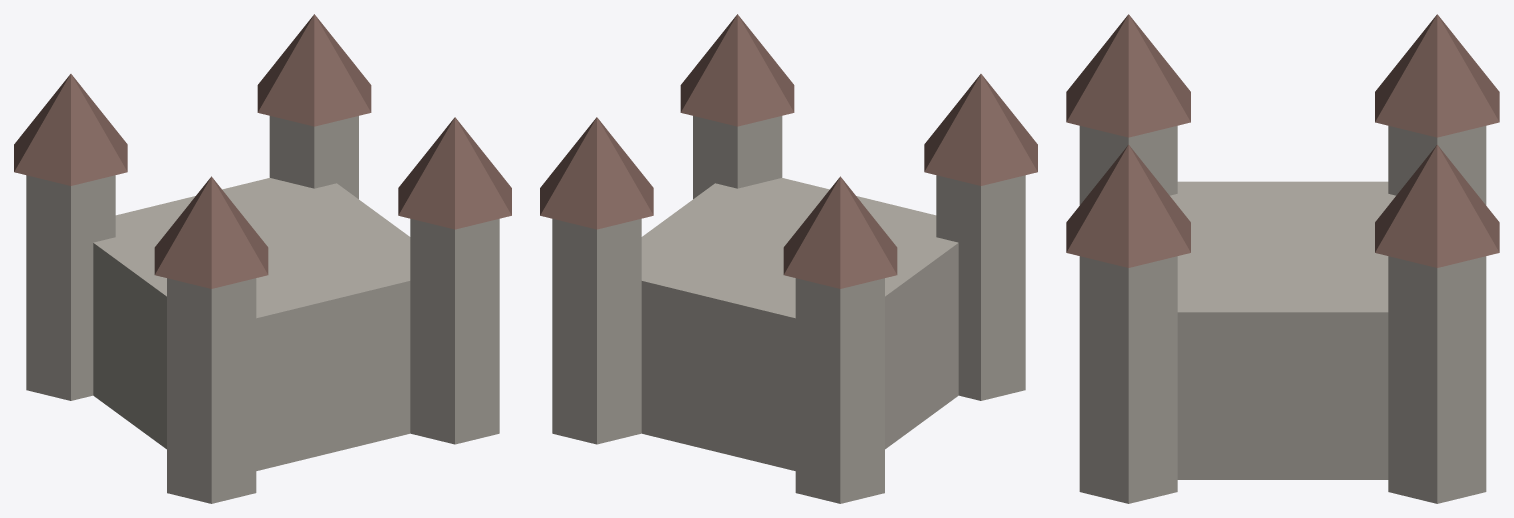
3 views of the same model, side by side, from view 1: azimuth 30°, elevation 25°; view 2: azimuth 150°, elevation 25°; view 3: azimuth 270°, elevation 25° (orthographic). The views are drawn at different scales.
Parts seen in each view (by area): view 1: part0, part7, part3, part5, part2, part8, part4, part6, part1; view 2: part0, part5, part1, part7, part4, part6, part2, part8, part3; view 3: part0, part1, part3, part6, part8, part2, part4, part5, part7.
Part boxes in pixels (x1,y1,x2,y2): part0: (93,178,410,470); part7: (167,278,256,503); part3: (410,218,499,444); part5: (26,175,115,400); part2: (257,14,371,126); part8: (154,176,268,288); part4: (398,117,511,229); part6: (14,74,127,185); part1: (269,116,358,198); part0: (641,178,958,470); part5: (795,278,884,503); part1: (552,218,641,444); part7: (936,175,1025,400); part4: (680,14,794,126); part6: (783,176,897,288); part2: (540,117,653,229); part8: (924,74,1037,185); part3: (693,116,782,198); part0: (1170,181,1395,479); part1: (1388,256,1486,503); part3: (1079,256,1177,503); part6: (1375,14,1499,137); part8: (1066,14,1190,137); part2: (1375,144,1499,267); part4: (1066,144,1190,267); part5: (1388,126,1486,205); part7: (1079,126,1177,205).
Size of the model in its own units: 4.4 by 3.6 by 4.21.
